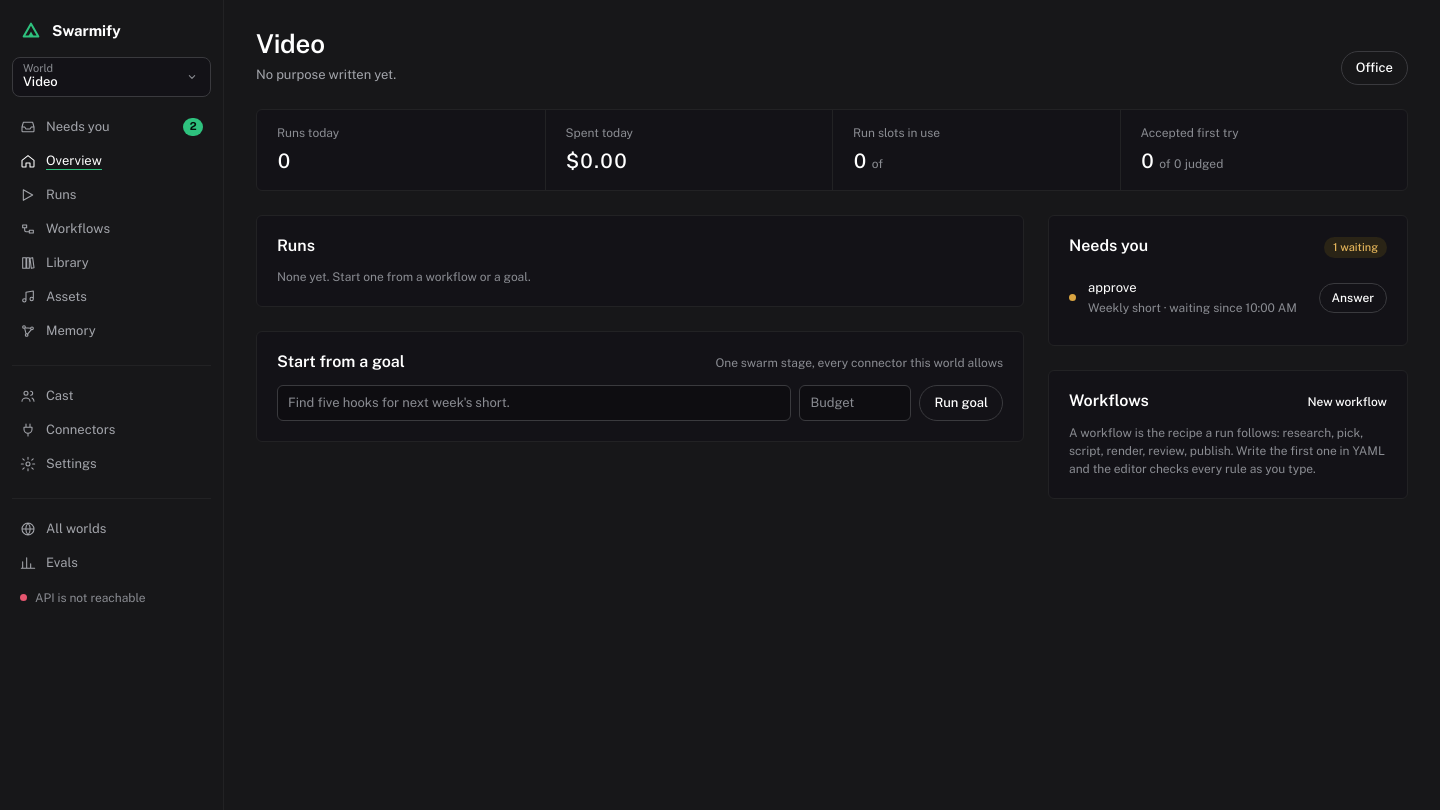
Scenario: the world overview's Answer opens the gate itself
Click the link "Answer": coordinates (1353, 298) [1318,283,1387,313]
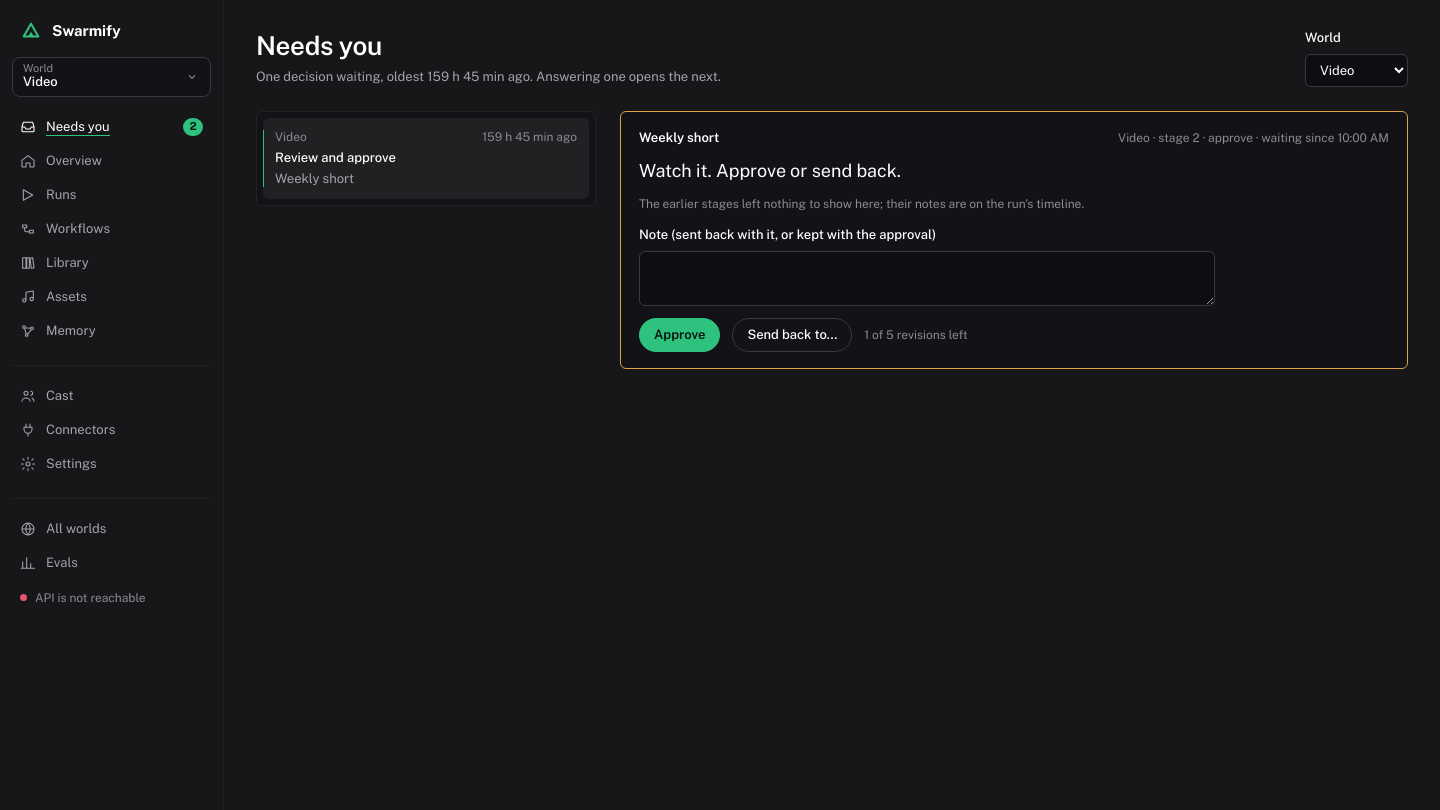
Check: the list item with test id "gate-run_2" is shown, box [620,110,1408,369]
